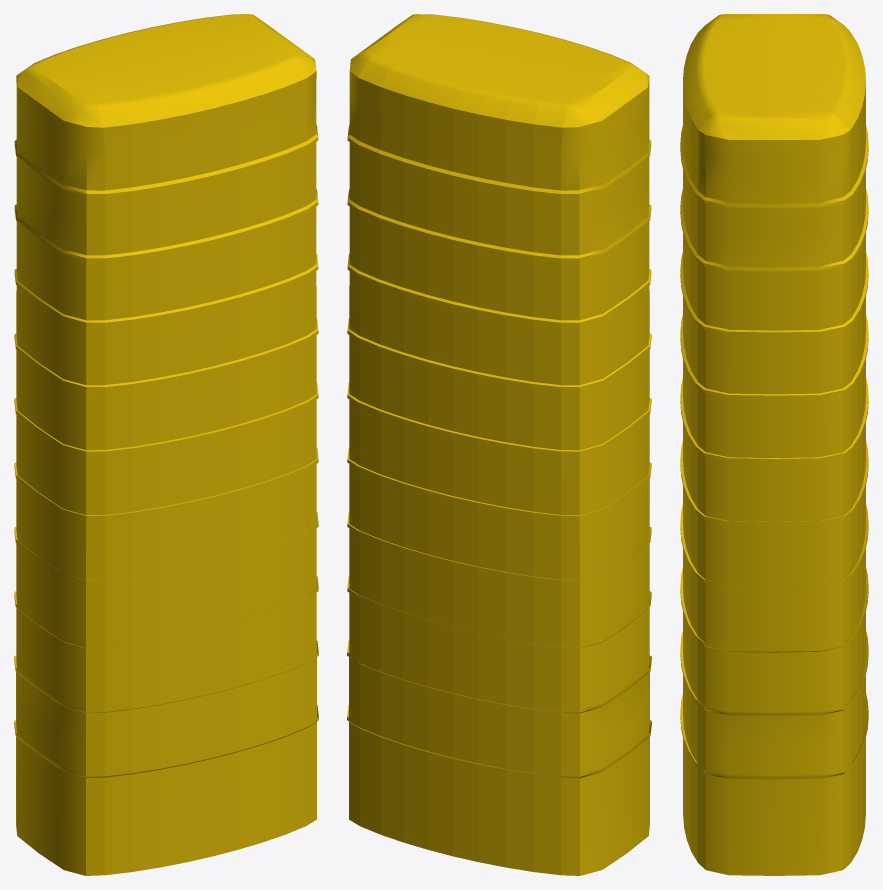
File: Building_02_Yellow_test.fbx
3 views of the same model, side by side, from view 1: azimuth 30°, elevation 25°; view 2: azimuth 150°, elevation 25°; view 3: azimuth 270°, elevation 25° (orthographic).
Parts seen in each view (by area): view 1: Building02_Yellow; view 2: Building02_Yellow; view 3: Building02_Yellow.
Part boxes in pixels (bbox=[...]): Building02_Yellow: bbox=[14, 14, 318, 875]; Building02_Yellow: bbox=[347, 14, 651, 875]; Building02_Yellow: bbox=[680, 14, 868, 875].
Bounding box in the file's own units: 1447 × 4103 × 936.
